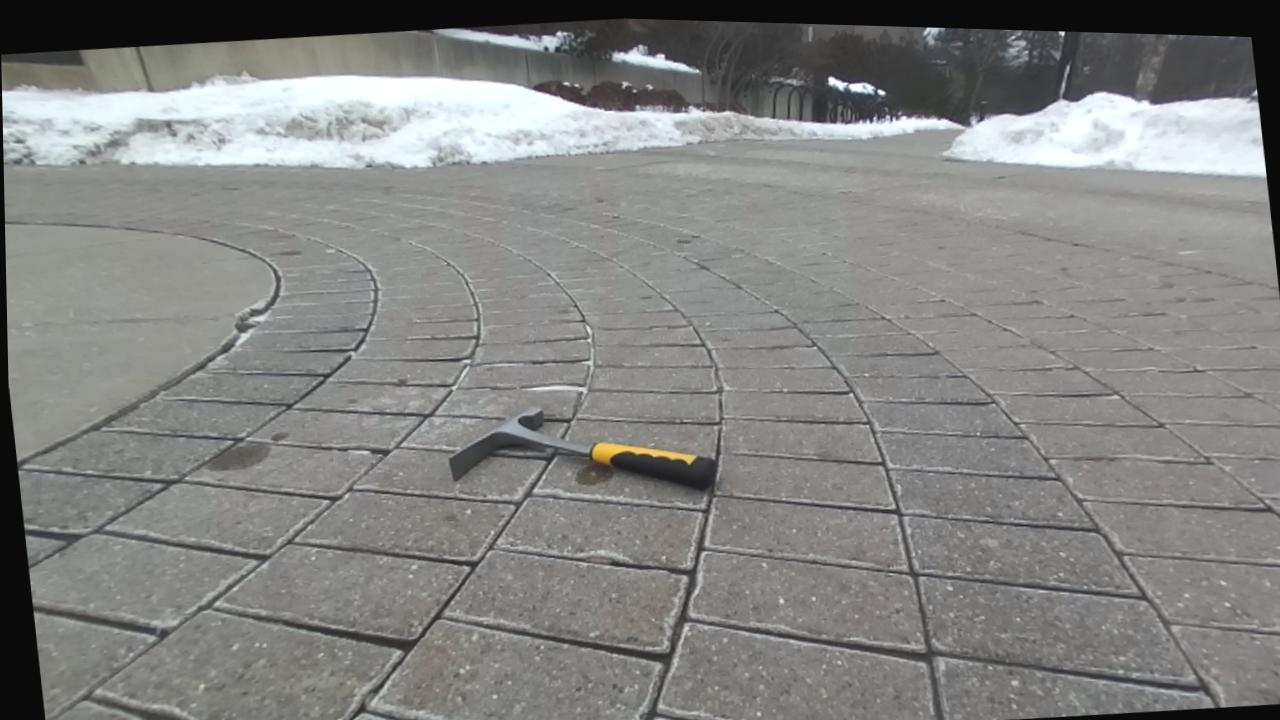pick: (450, 408, 717, 487)
